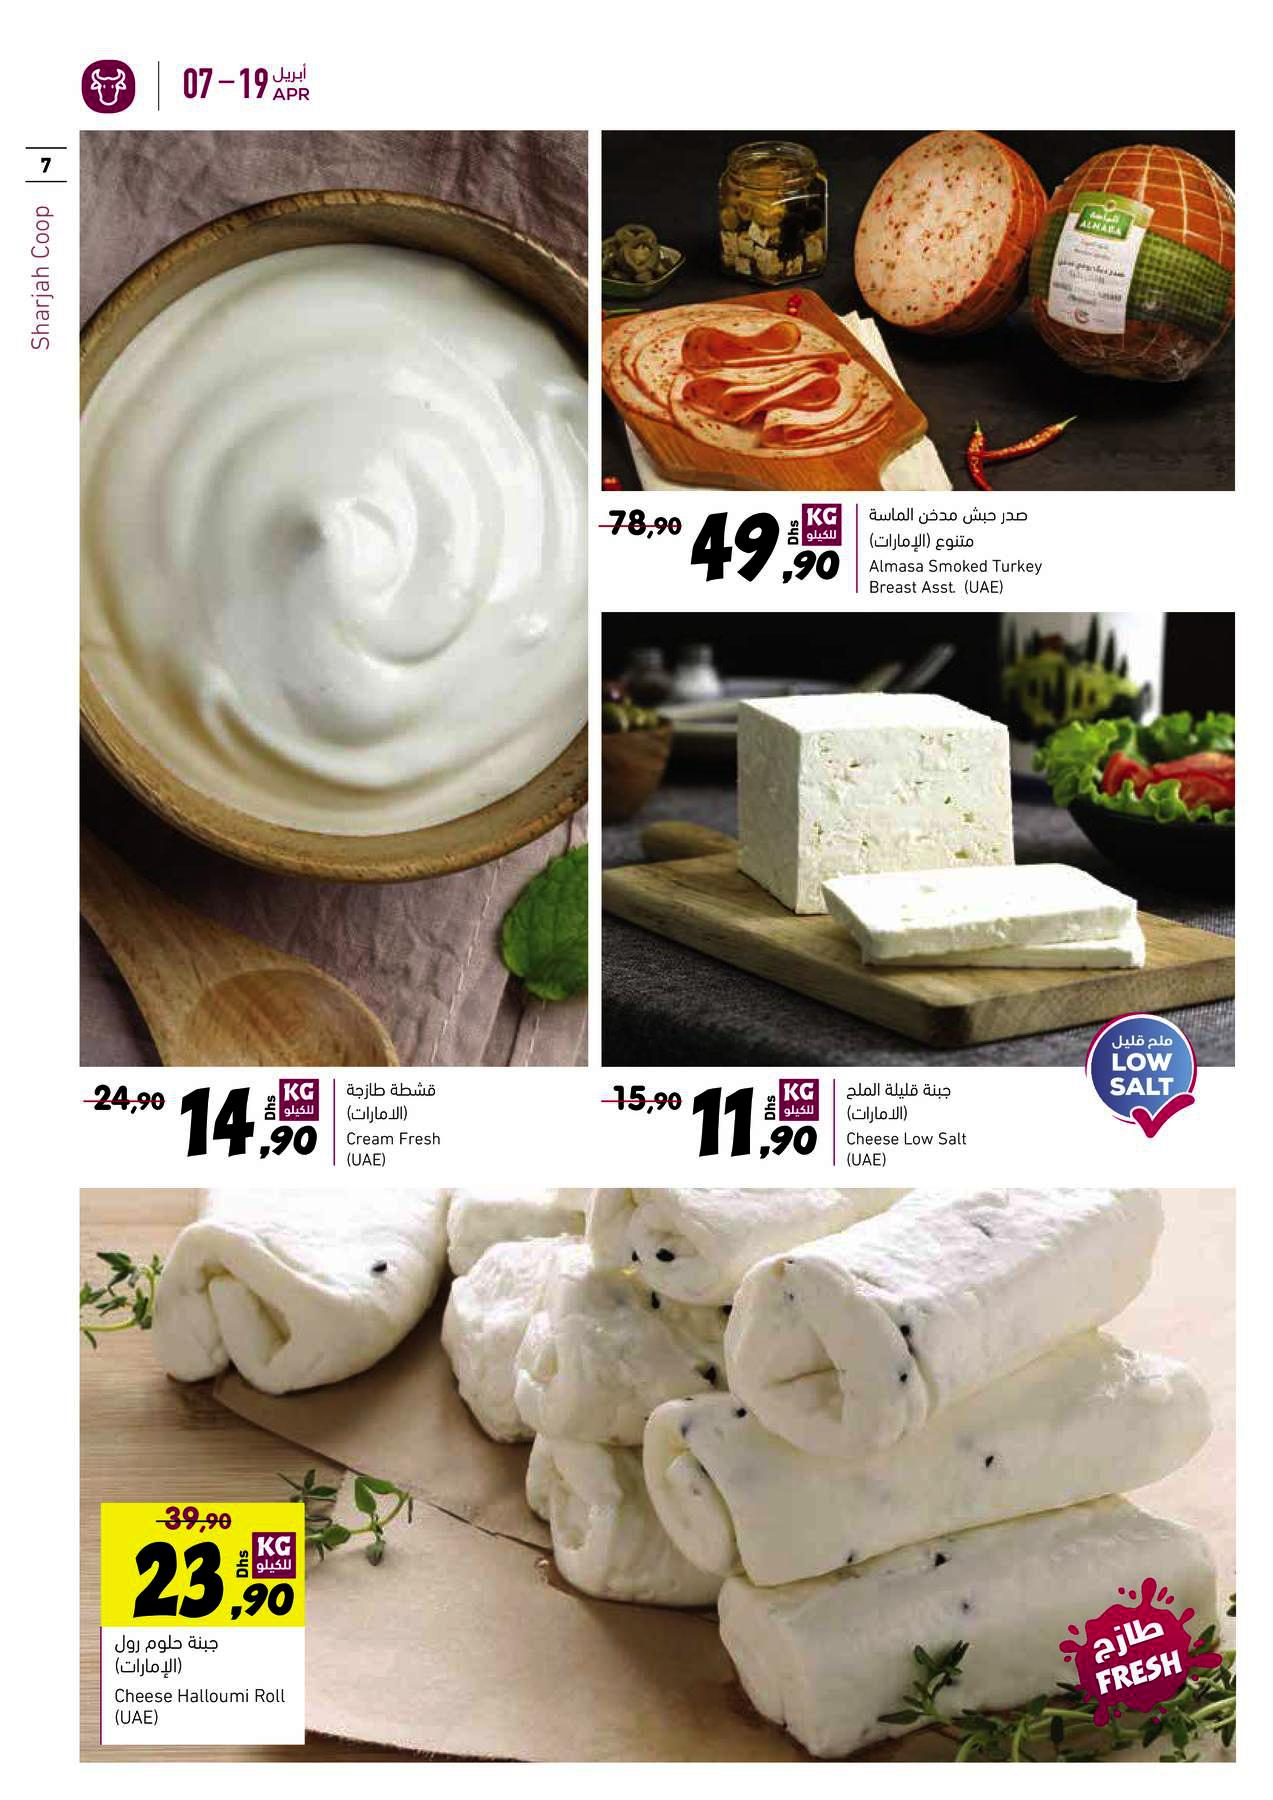text: (106, 1626, 293, 1742), (862, 499, 1051, 603), (842, 1073, 978, 1178), (340, 1071, 456, 1173)
